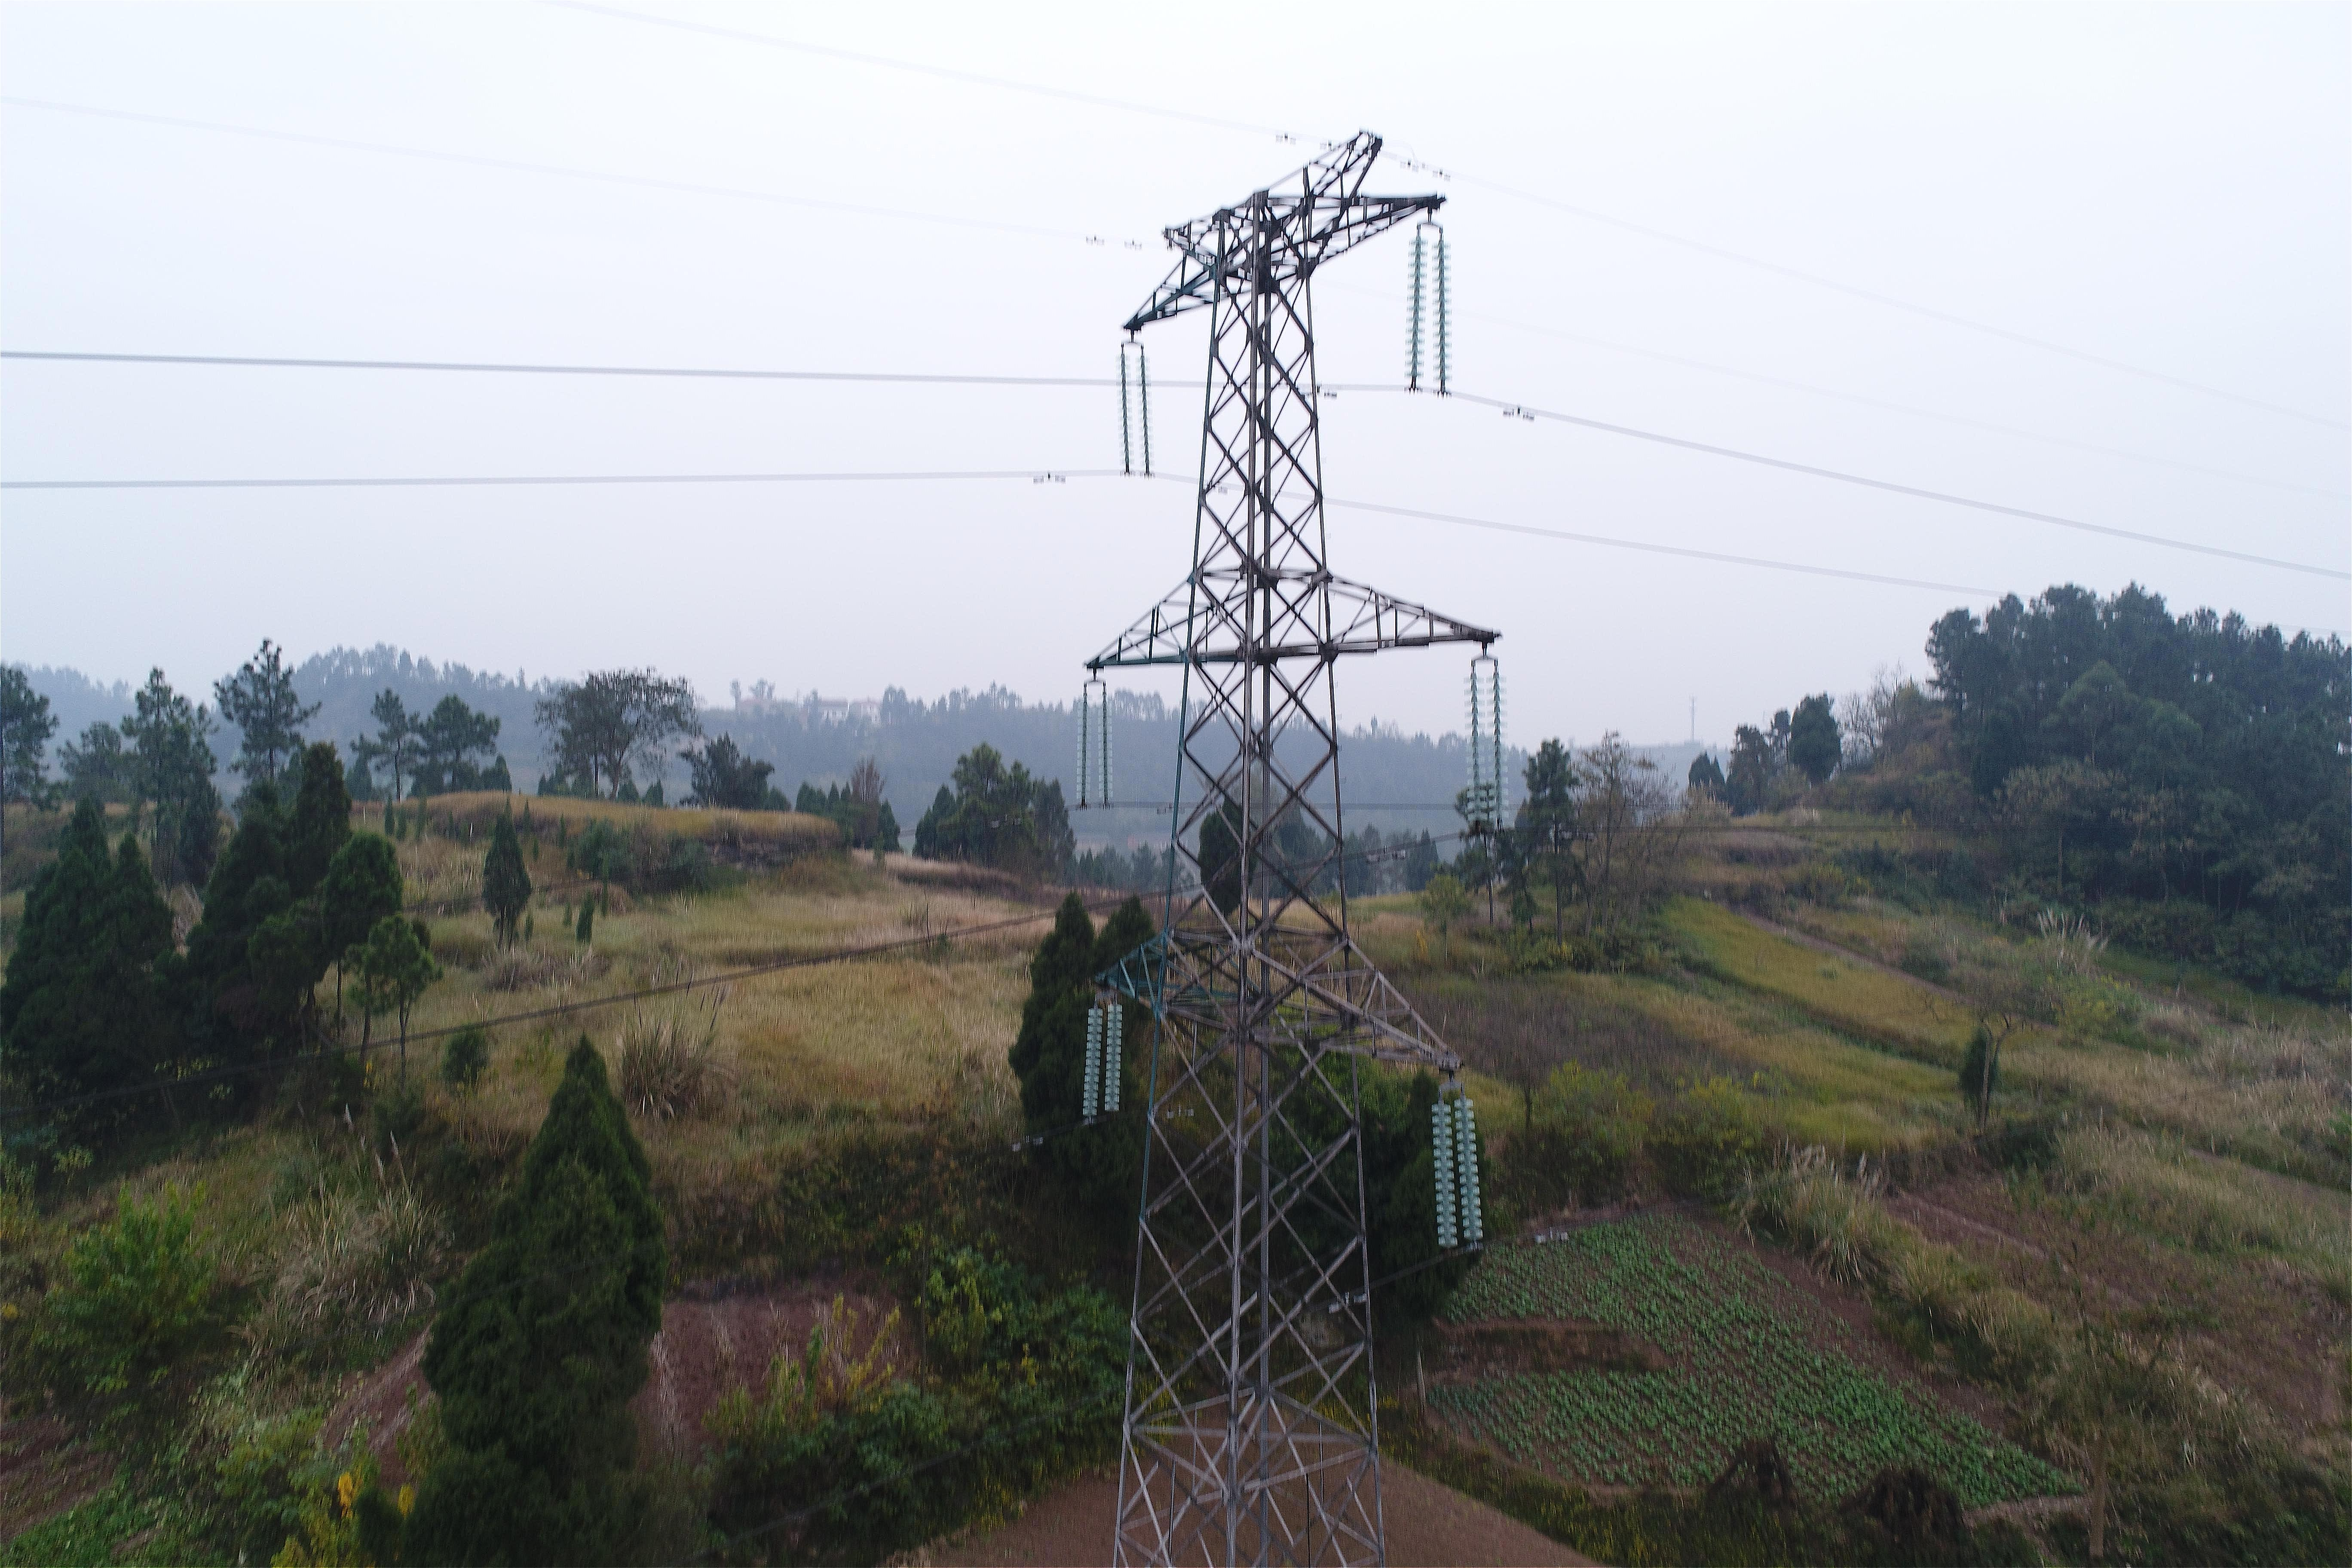insultor3: (1386, 217, 1459, 388), (1417, 1097, 1503, 1244), (1454, 679, 1531, 826), (1069, 684, 1125, 803), (1111, 348, 1160, 465), (1083, 1001, 1129, 1109)
